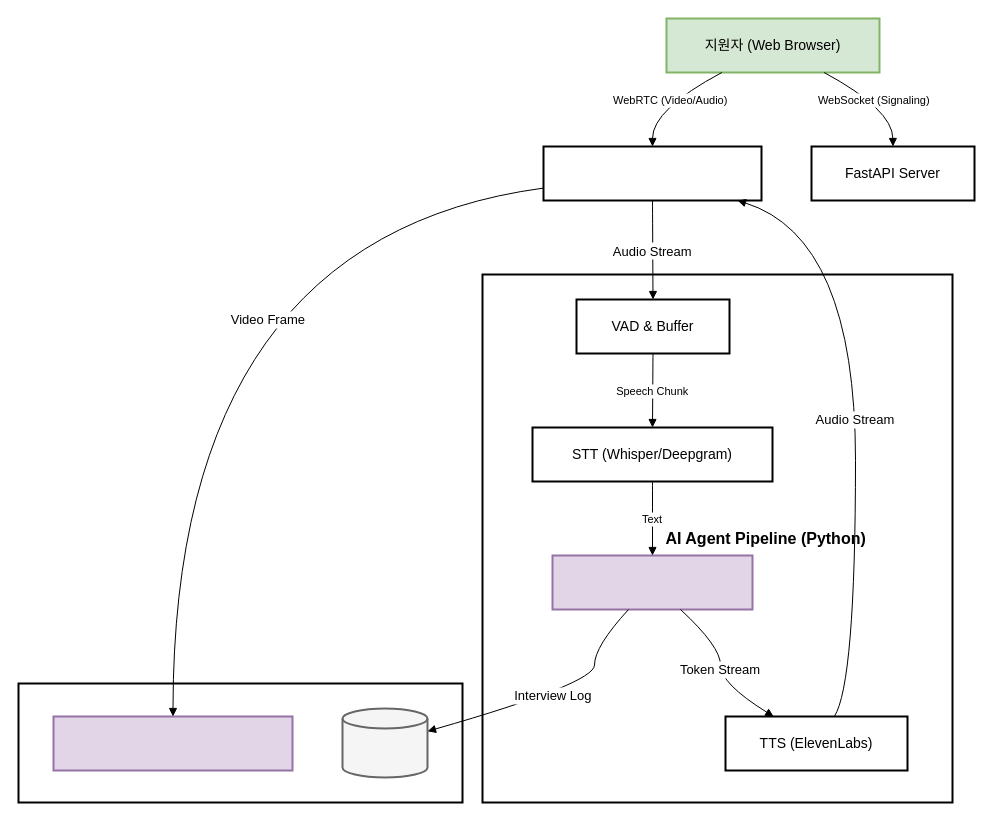
Some shapes in this 992 by 820 pixel diagram are drawn without their labels. The centre of each missing label's shape, as x and y in pixels:
LLM Agent (GPT-4o): pixel 652 582
Media Server (LiveKit): pixel 652 173
Vector DB: pixel 384 742
Vision AI (Emotion/Gaze): pixel 172 743
